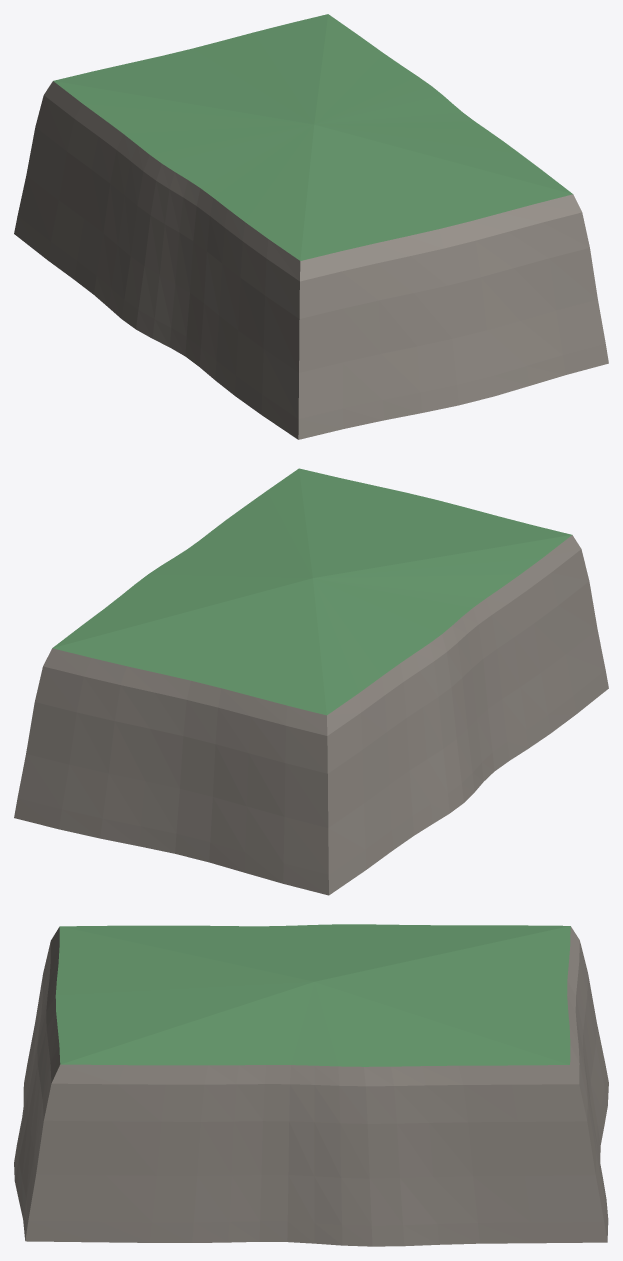
File: mountain.glb
The picture shows the model from 3 angles, top to bottom: view 1: azimuth 30°, elevation 25°; view 2: azimuth 150°, elevation 25°; view 3: azimuth 270°, elevation 25°; orthographic projection. The views are drawn at different scales.
Parts seen in each view (by area): view 1: Mountain; view 2: Mountain; view 3: Mountain.
Part boxes in pixels (x1,y1,x2,y2): Mountain: [14, 14, 608, 439]; Mountain: [14, 468, 608, 895]; Mountain: [14, 924, 608, 1246].
Bounding box in the file's own units: 23.54 × 11.9 × 35.43.
